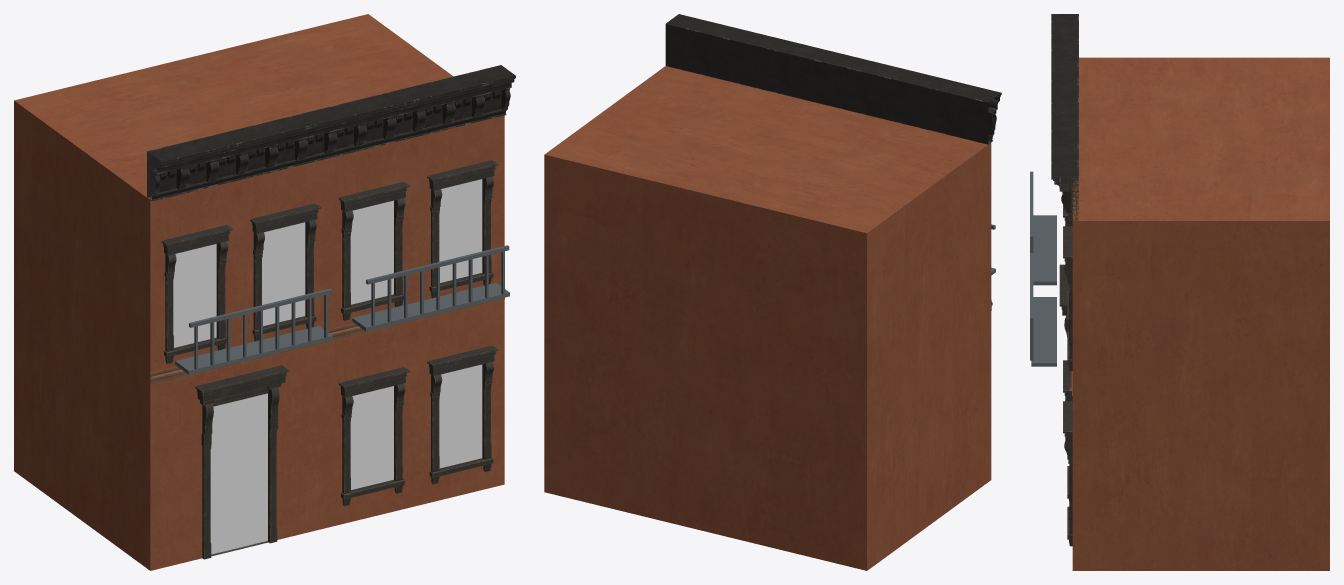
File: terracotta-residence.glb
3 renders of one model, left to right at view 1: azimuth 30°, elevation 25°; view 2: azimuth 150°, elevation 25°; view 3: azimuth 270°, elevation 25°, orthographic. The views are drawn at different scales.
Visible parts, largest first — view 1: rear_sides_roof, COL_building, wall_door_centered_small_01_0, wall_window_centered_double_02_2, wall_window_centered_double_02_4, wall_window_centered_double_02_6, crown_standard_standard_01_9, juliet_balconies, crown_standard_standard_01_11, window_centered_double_02_3, window_centered_double_02_5, window_centered_double_02_7 (+3 smaller); view 2: rear_sides_roof, crown_standard_standard_01_9, crown_standard_standard_01_11; view 3: rear_sides_roof, juliet_balconies, crown_standard_standard_01_11, crown_standard_standard_01_9, window_centered_double_02_3, window_centered_double_02_7, door_centered_small_01_1.
Part boxes in pixels (left/top/right/bottom): rear_sides_roof: left=14, top=14, right=453, bottom=570; COL_building: left=173, top=179, right=482, bottom=554; wall_door_centered_small_01_0: left=150, top=343, right=327, bottom=570; wall_window_centered_double_02_2: left=327, top=299, right=504, bottom=527; wall_window_centered_double_02_4: left=150, top=158, right=327, bottom=385; wall_window_centered_double_02_6: left=327, top=115, right=504, bottom=329; crown_standard_standard_01_9: left=147, top=108, right=338, bottom=201; juliet_balconies: left=175, top=245, right=509, bottom=374; crown_standard_standard_01_11: left=324, top=65, right=515, bottom=157; window_centered_double_02_3: left=338, top=345, right=498, bottom=506; window_centered_double_02_5: left=161, top=203, right=321, bottom=363; window_centered_double_02_7: left=338, top=160, right=498, bottom=320; rear_sides_roof: left=544, top=66, right=991, bottom=570; crown_standard_standard_01_9: left=827, top=53, right=1001, bottom=144; crown_standard_standard_01_11: left=665, top=14, right=839, bottom=105; rear_sides_roof: left=1072, top=57, right=1329, bottom=570; juliet_balconies: left=1030, top=171, right=1056, bottom=366; crown_standard_standard_01_11: left=1051, top=95, right=1078, bottom=220; crown_standard_standard_01_9: left=1051, top=14, right=1078, bottom=95; window_centered_double_02_3: left=1063, top=360, right=1072, bottom=546; window_centered_double_02_7: left=1063, top=205, right=1072, bottom=371; door_centered_small_01_1: left=1059, top=264, right=1069, bottom=336.
Size of the model in its own units: 6 by 6.75 by 4.66.
6 materials, 4 textured.
